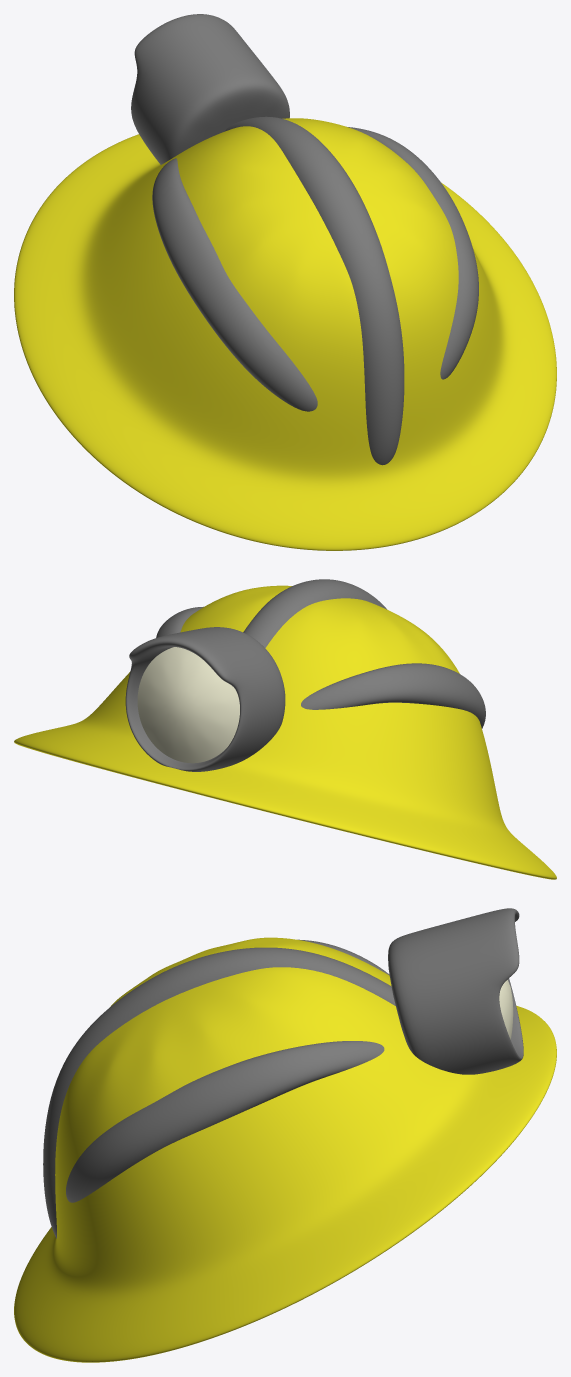
The model's file is MineHat.fbx.
3 renders of one model, top to bottom at view 1: azimuth 30°, elevation 25°; view 2: azimuth 150°, elevation 25°; view 3: azimuth 270°, elevation 25°, orthographic. The views are drawn at different scales.
Visible parts, largest first — view 1: Cylinder.122; view 2: Cylinder.122; view 3: Cylinder.122.
Part boxes in pixels (left/top/right/bottom): Cylinder.122: left=14, top=14, right=556, bottom=550; Cylinder.122: left=14, top=579, right=556, bottom=879; Cylinder.122: left=14, top=908, right=556, bottom=1362.
Size of the model in its own units: 202 by 179 by 145.
